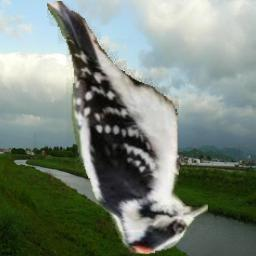Woodpecker: (47, 1, 220, 256)
